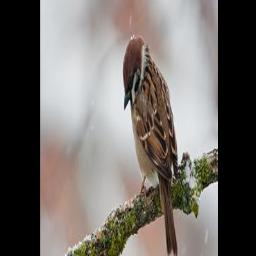Sparrow: (122, 33, 180, 256)
